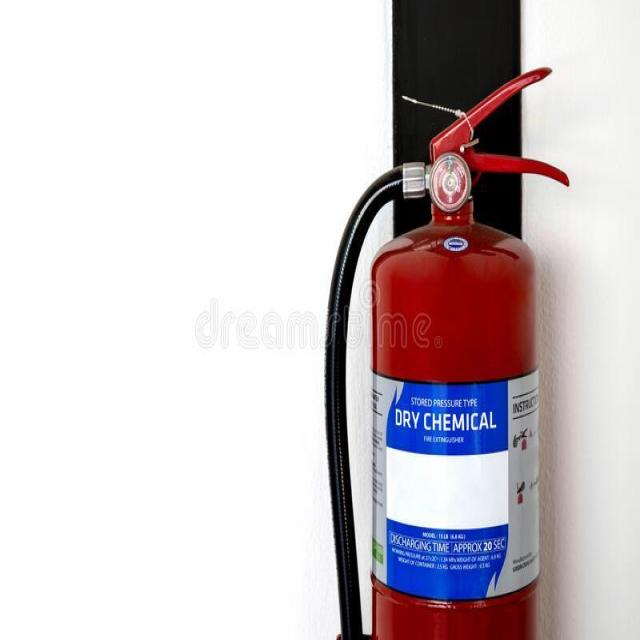fire_extinguisher: (320, 61, 573, 639)
